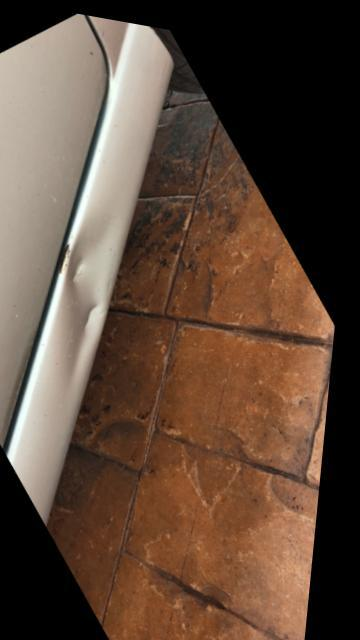dent: (73, 209, 125, 382)
